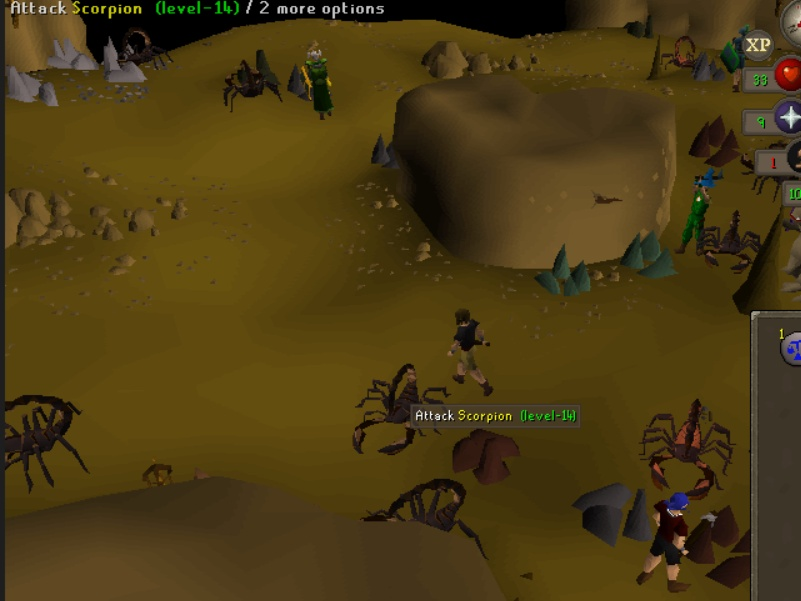adamant: (531, 241, 601, 304), (616, 221, 686, 284)
coal: (235, 45, 283, 92), (621, 10, 659, 43)
iron: (439, 415, 531, 489), (680, 503, 754, 592), (687, 109, 743, 168)
tin: (1, 58, 64, 112), (45, 32, 98, 77), (98, 45, 151, 90)
